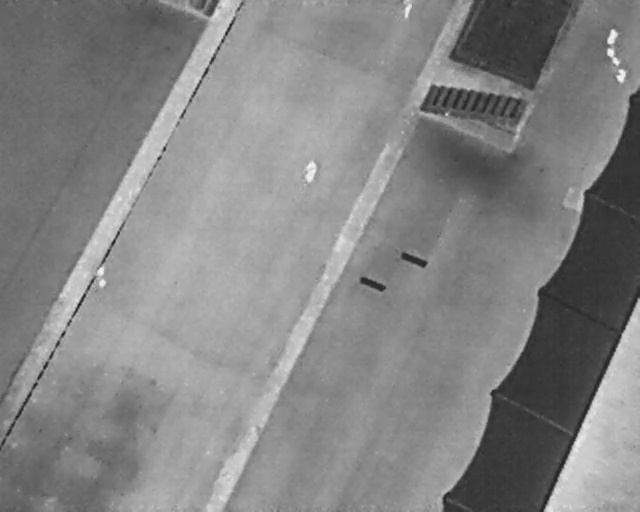Person: (301, 156, 320, 186), (93, 265, 107, 292), (401, 0, 413, 19)
